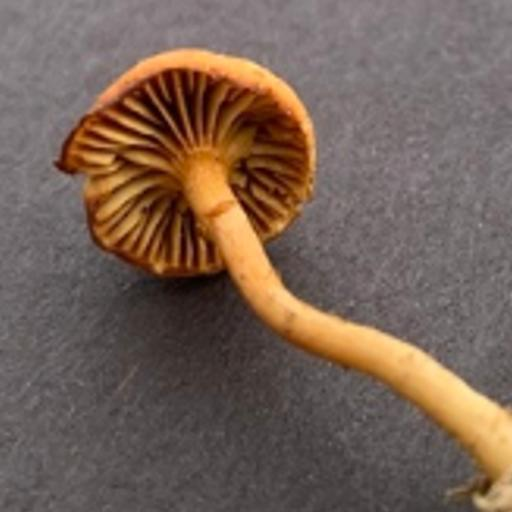mushroom: (63, 31, 420, 391)
